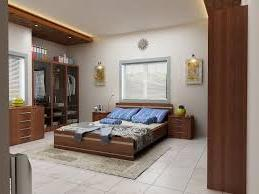bed: (53, 102, 174, 161)
light: (105, 91, 117, 112), (186, 51, 198, 66), (96, 58, 105, 69), (29, 22, 41, 30), (67, 33, 75, 41)
table: (6, 104, 46, 148), (169, 116, 193, 138), (91, 109, 109, 121)
